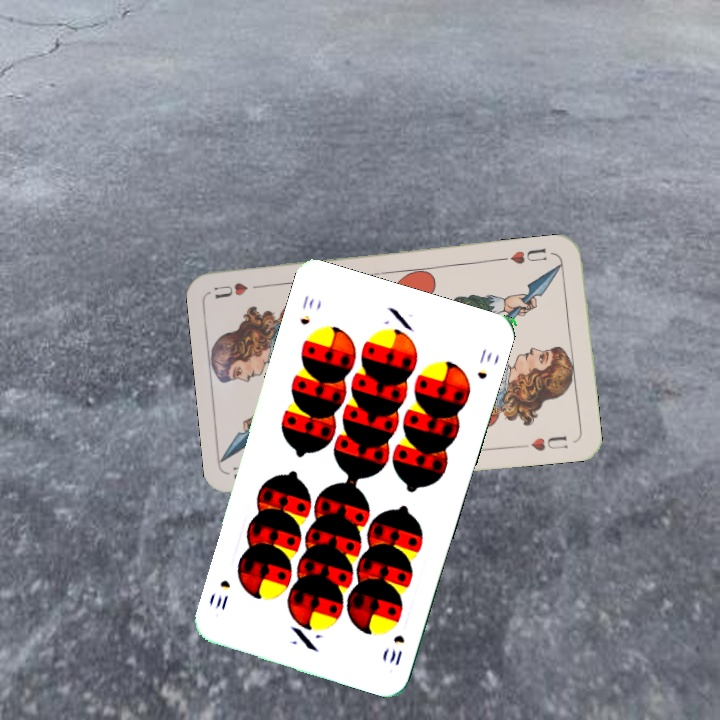HU: (507, 244, 549, 267)
S10: (385, 630, 407, 669), (296, 291, 317, 328)
